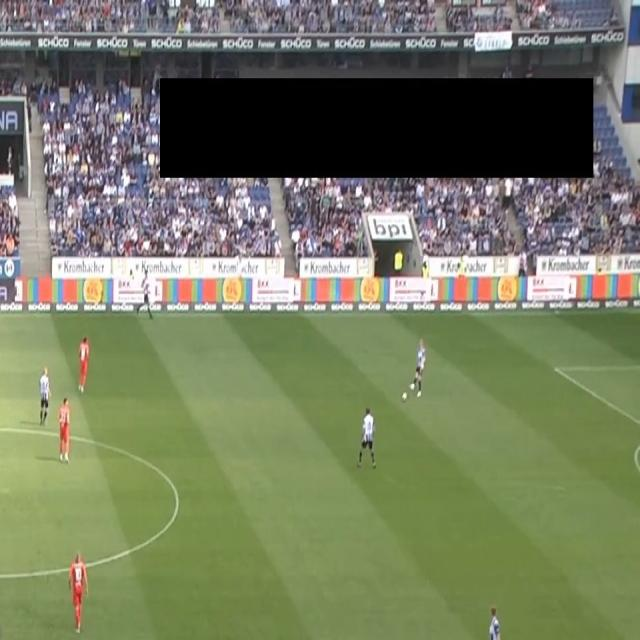ball: (401, 389, 408, 403)
